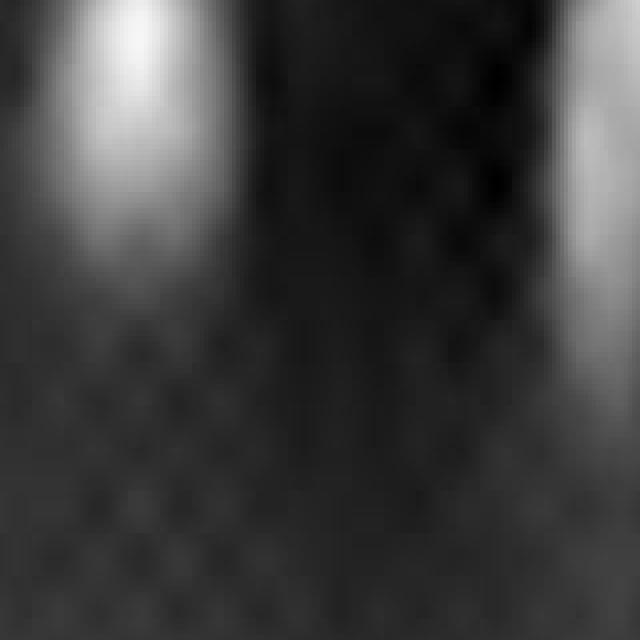person: (25, 1, 253, 262)
